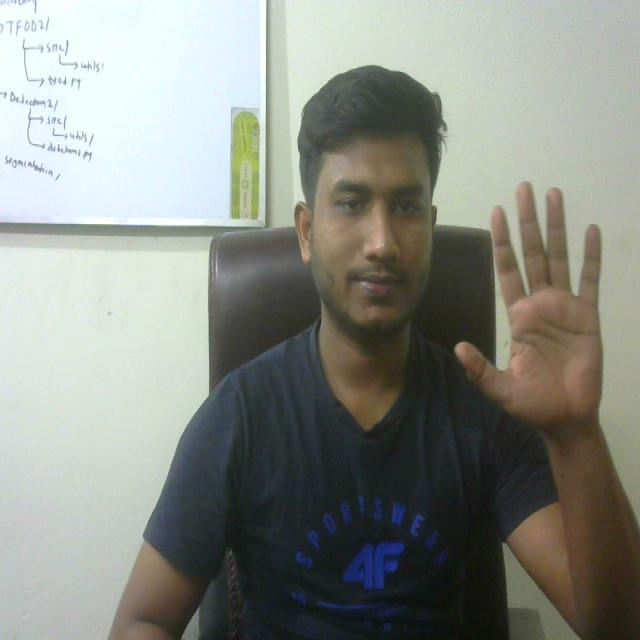Hello: (444, 167, 634, 460)
